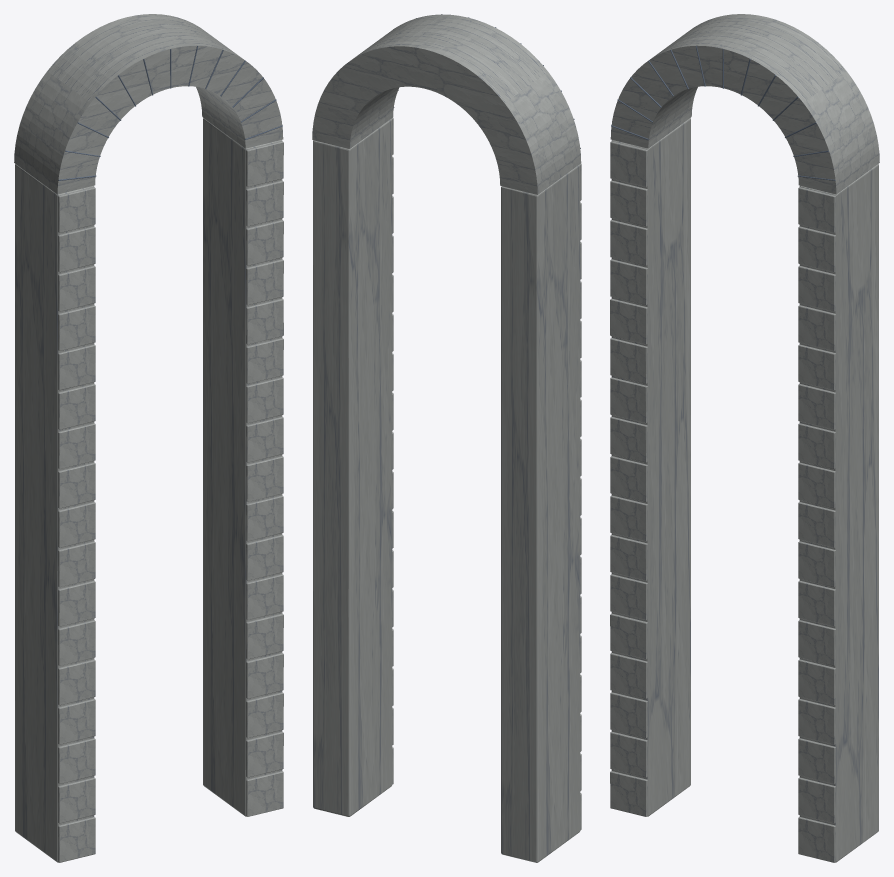
The model's file is bridge_pillar.glb.
3 renders of one model, left to right at view 1: azimuth 30°, elevation 25°; view 2: azimuth 150°, elevation 25°; view 3: azimuth 330°, elevation 25°, orthographic.
Parts seen in each view (by area): view 1: bridge_pillar; view 2: bridge_pillar; view 3: bridge_pillar.
Boxes of the visible parts, x1=… form: bridge_pillar: x1=14, y1=14, x2=283, y2=862; bridge_pillar: x1=312, y1=14, x2=581, y2=862; bridge_pillar: x1=610, y1=14, x2=879, y2=862.
Bounding box in the file's own units: 6 × 20 × 2.06.
Materials: 1 (1 with a texture image).
